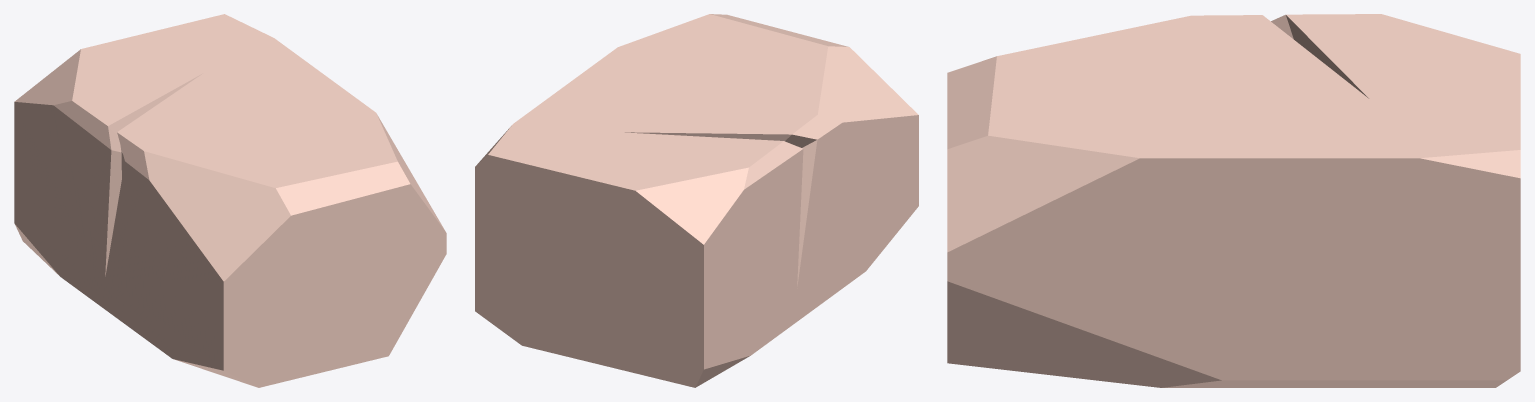
Rendered from Stone 3.fbx.
The picture shows the model from 3 angles, left to right: view 1: azimuth 30°, elevation 25°; view 2: azimuth 150°, elevation 25°; view 3: azimuth 270°, elevation 25°; orthographic projection. The views are drawn at different scales.
Visible parts, largest first — view 1: Stone 3; view 2: Stone 3; view 3: Stone 3.
Boxes of the visible parts, <box> form: Stone 3: <box>14,14,446,387</box>; Stone 3: <box>475,14,918,387</box>; Stone 3: <box>947,14,1520,387</box>.
Bounding box in the file's own units: 120 × 91.73 × 196.
